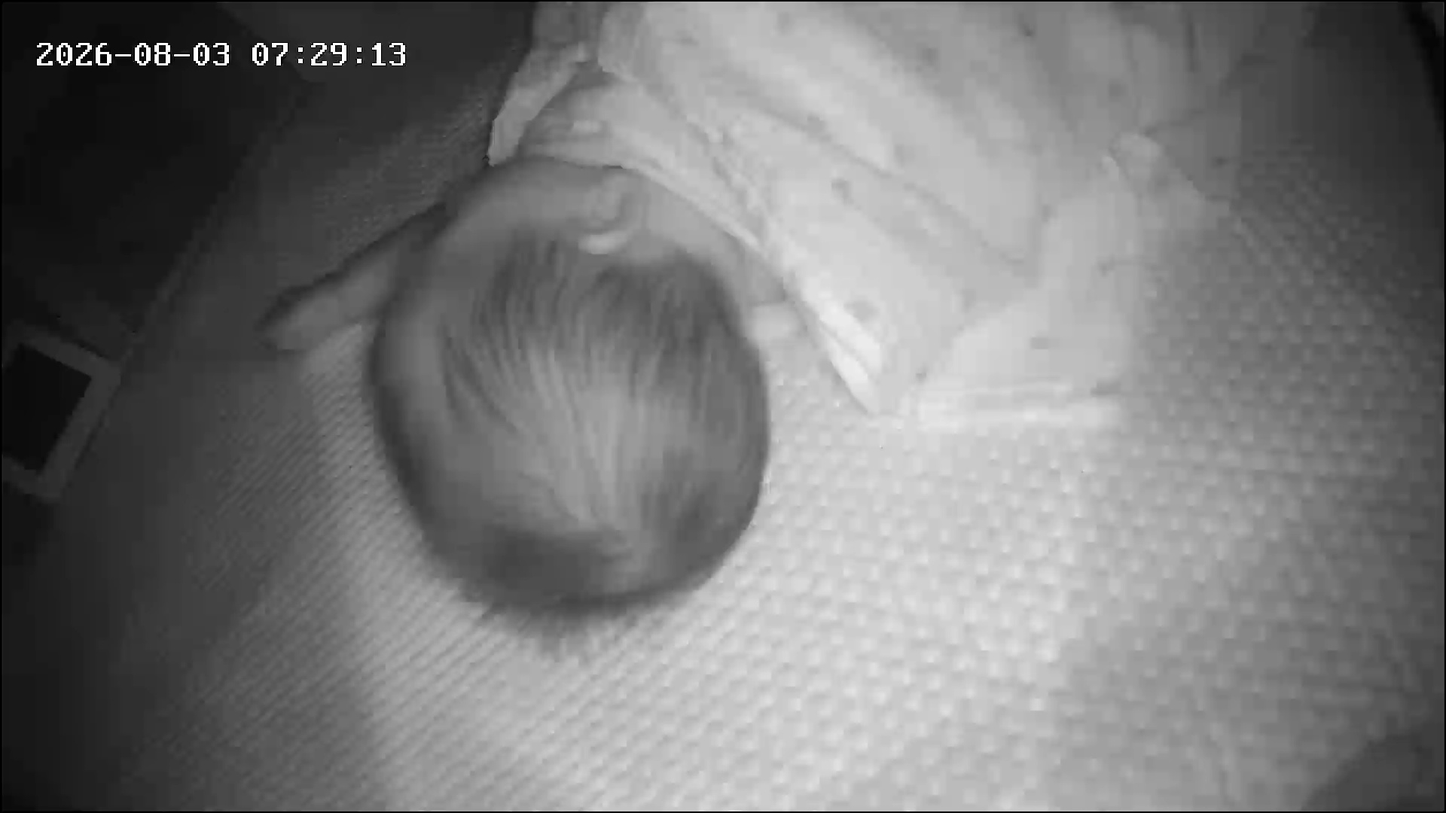baby: (328, 1, 1202, 663), (0, 0, 796, 658)
baby_face: (353, 118, 798, 642)
